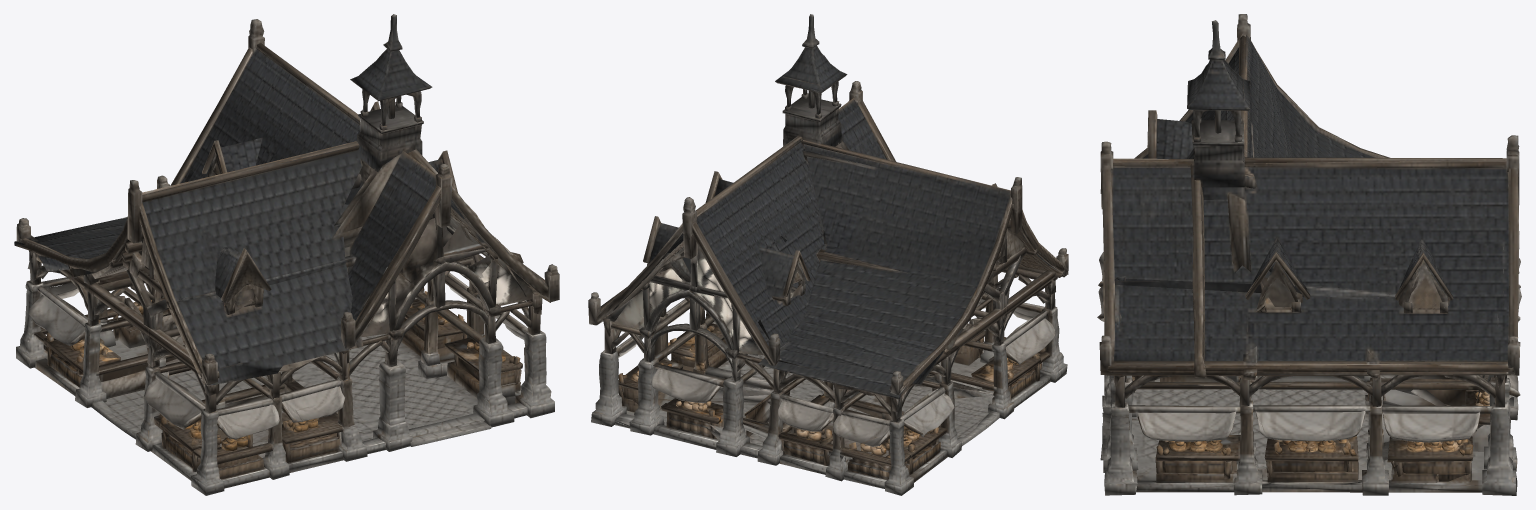
Rendered from Market.glb.
3 views of the same model, side by side, from view 1: azimuth 30°, elevation 25°; view 2: azimuth 150°, elevation 25°; view 3: azimuth 270°, elevation 25° (orthographic). The views are drawn at different scales.
Bounding box in the file's own units: 1 × 1 × 0.9219.
Materials: 1 (1 with a texture image).
